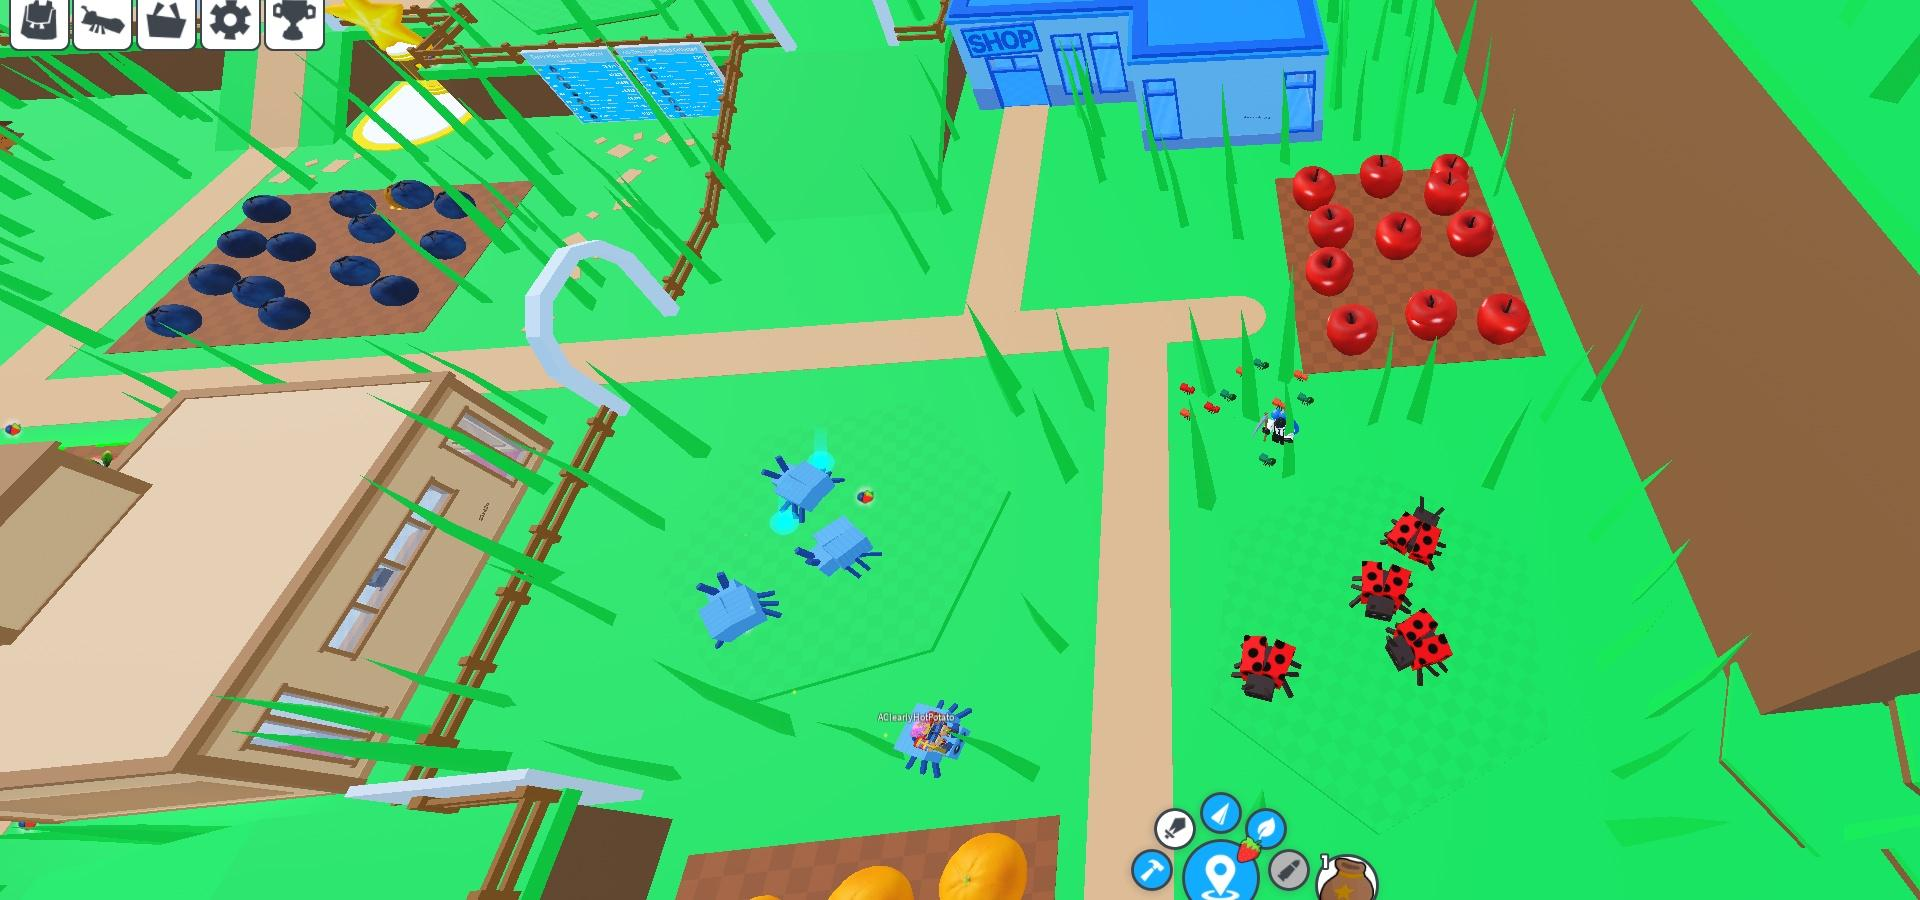Enemy: (793, 513, 884, 582), (1381, 607, 1453, 688), (759, 457, 847, 523), (1378, 500, 1457, 571), (699, 574, 773, 650), (1231, 633, 1303, 707), (1349, 561, 1413, 624)
